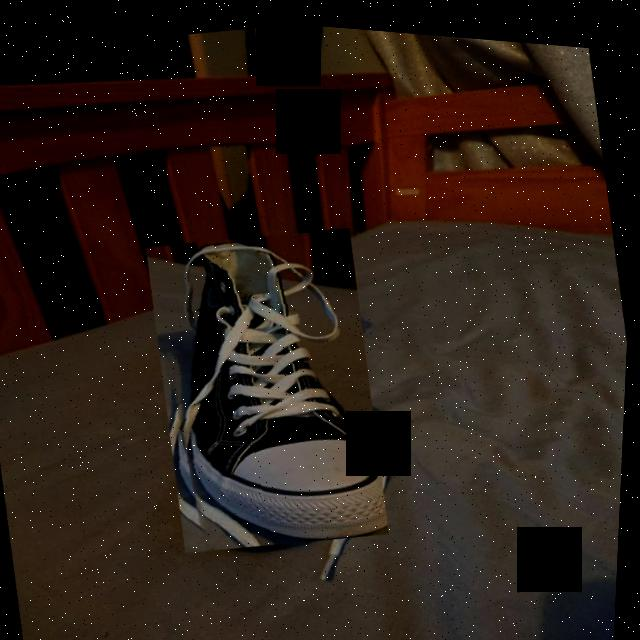shoe: (137, 208, 404, 562)
